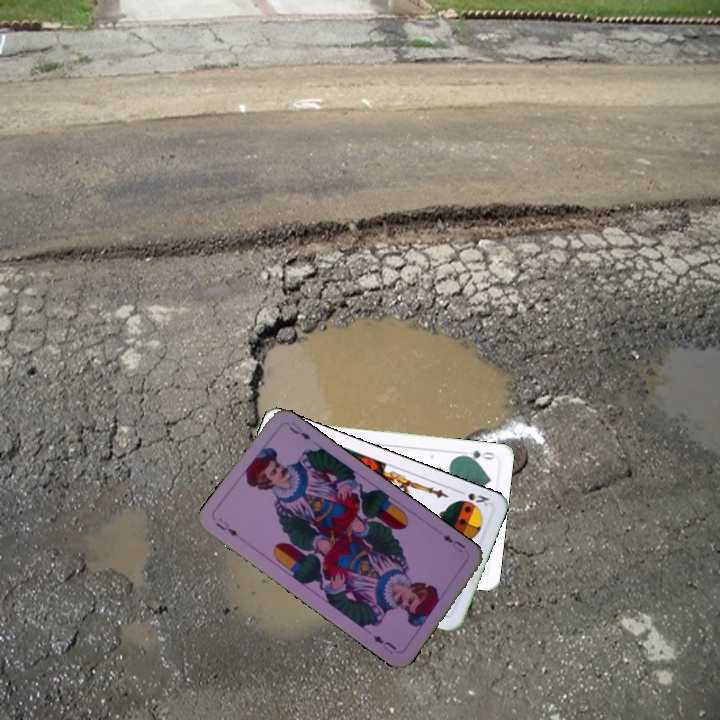EU: (211, 514, 241, 539), (439, 531, 468, 555)
GO: (457, 446, 497, 463)
SK: (453, 486, 492, 508)
